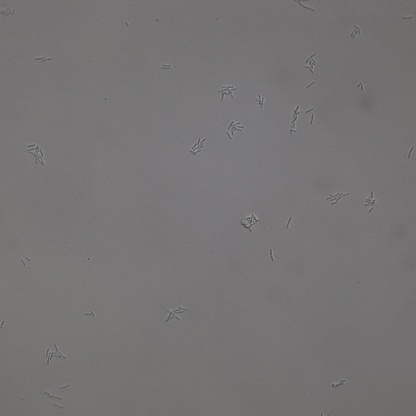R(colony): (164, 306, 188, 322), (44, 345, 65, 363), (27, 143, 44, 165), (225, 120, 244, 139), (241, 214, 261, 232), (326, 191, 349, 206), (189, 137, 206, 156), (217, 84, 237, 100), (364, 190, 376, 215), (289, 105, 299, 134), (305, 53, 317, 74), (255, 94, 266, 108), (1, 7, 17, 16), (35, 56, 52, 63), (21, 256, 31, 266)
